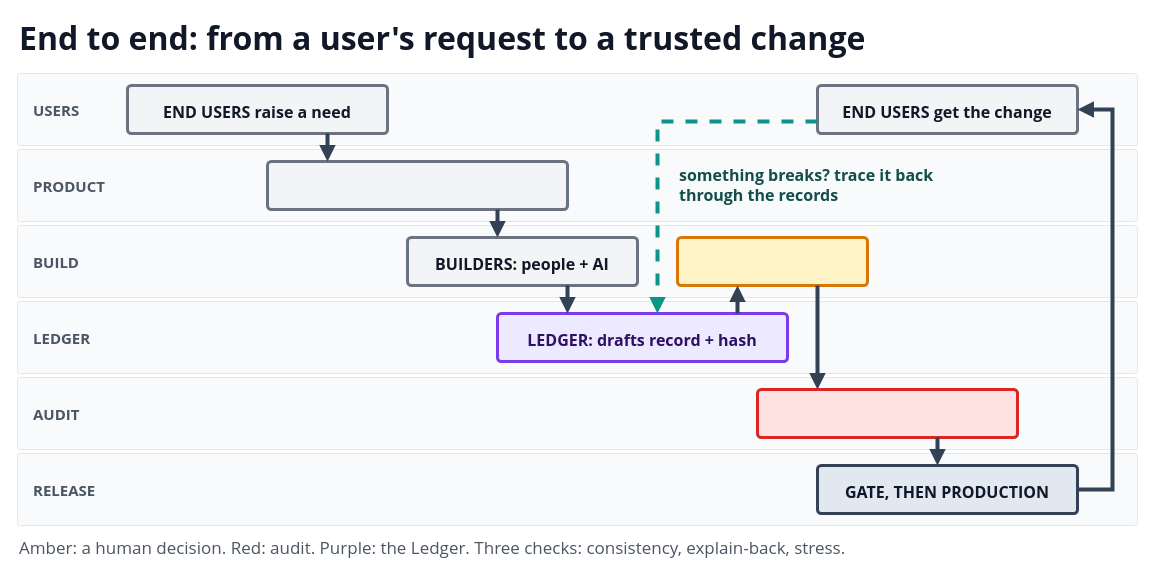
Image size: 1155x580. Some labels were removed from this diagram. The centre of each missing label's shape, as x and y in pixels:
"AUDITORS: three checks" belongs at [887,413].
"BUILDER SIGNS" belongs at [772,261].
"PRODUCT OWNER: story + spec" belongs at [417,185].
